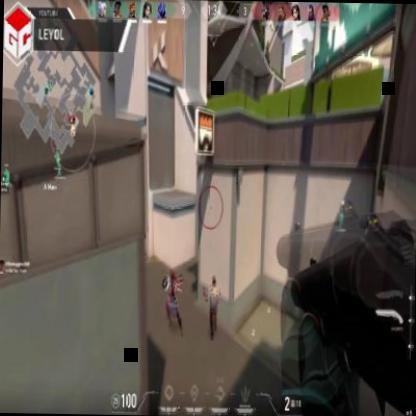enemy: (164, 270, 185, 338), (200, 276, 220, 338)
enemy_head: (170, 270, 175, 282), (211, 276, 216, 288)
